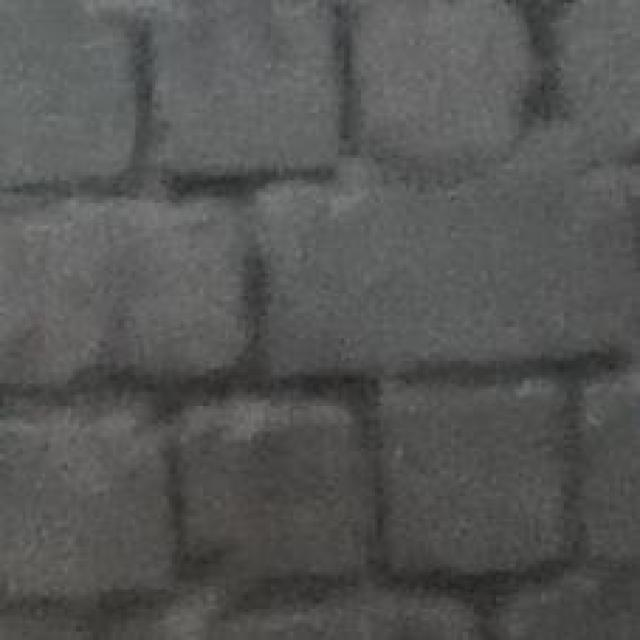Crack: (79, 97, 616, 640)
